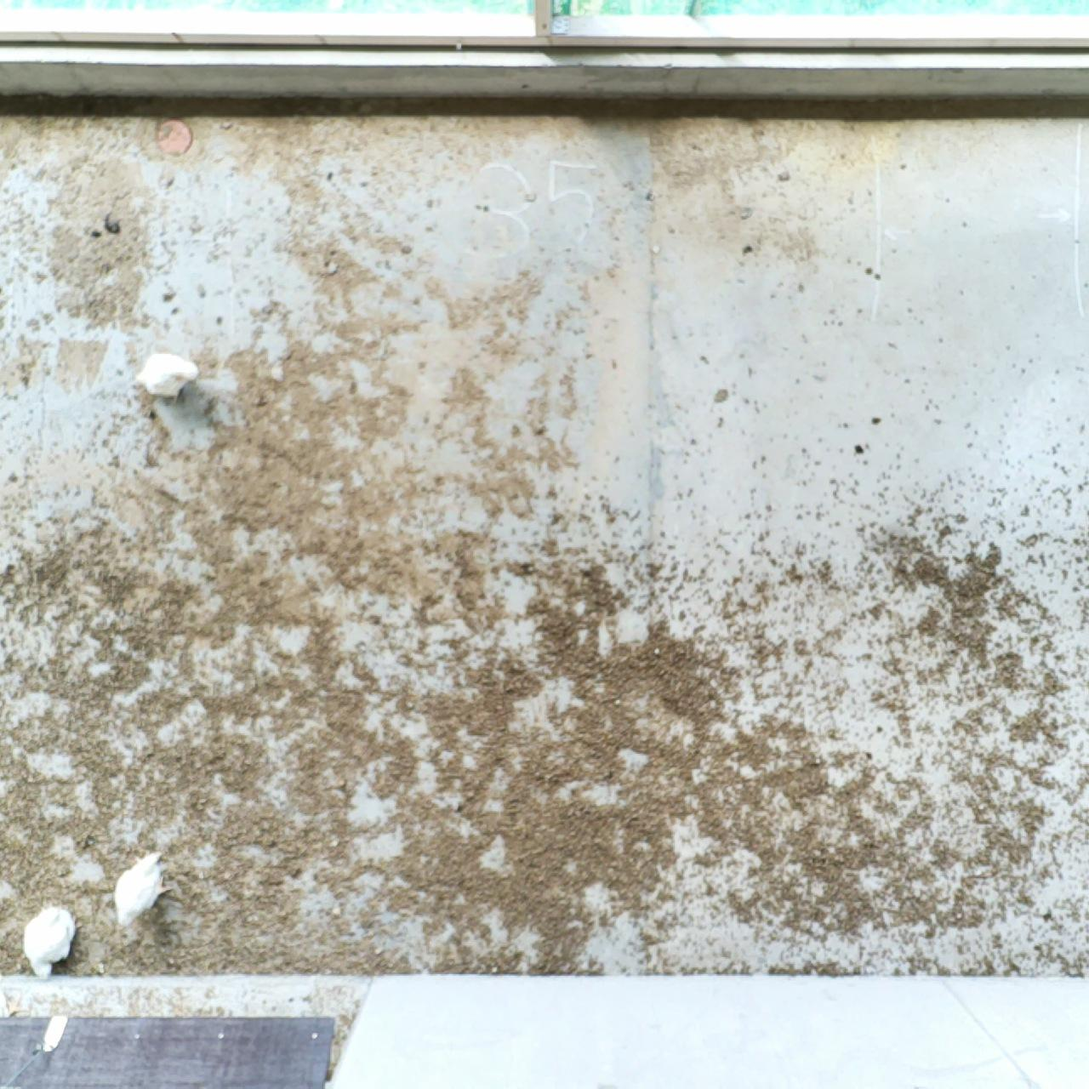chicken: (114, 847, 168, 931), (24, 903, 78, 977)
